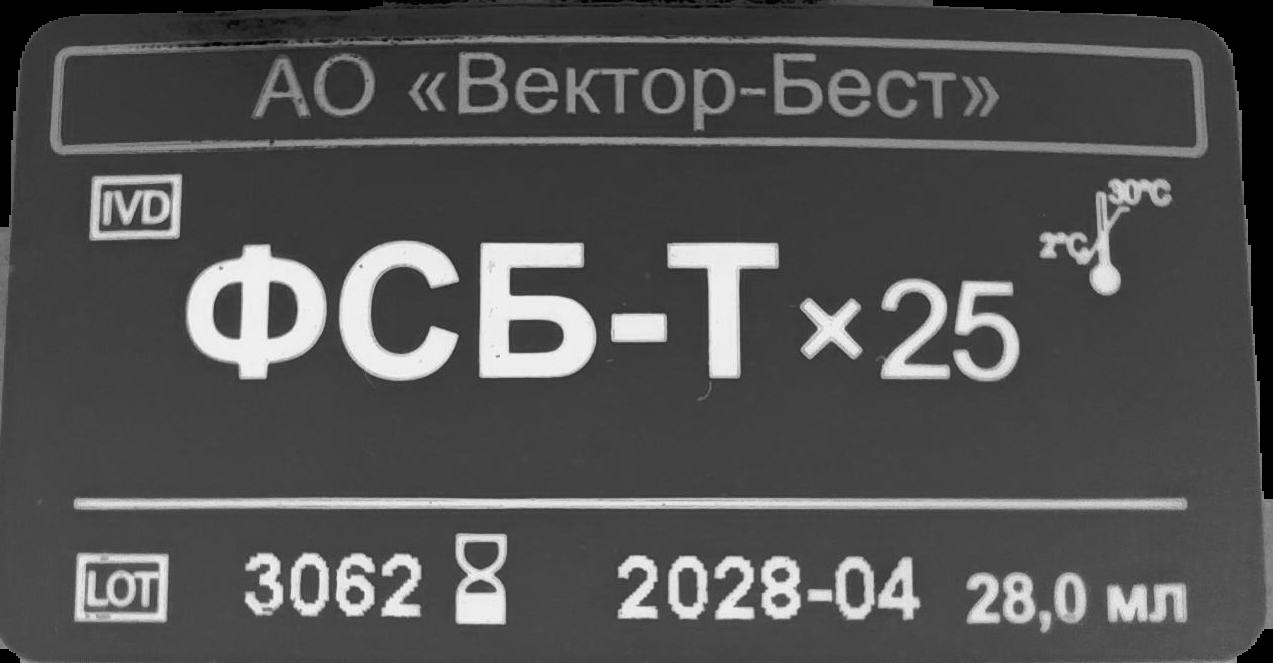something: (1036, 178, 1178, 304), (83, 170, 182, 246), (74, 550, 173, 623), (455, 529, 514, 631)
text: (175, 235, 1030, 395), (242, 45, 1005, 139), (606, 549, 928, 627), (955, 564, 1191, 630), (235, 546, 423, 623)
